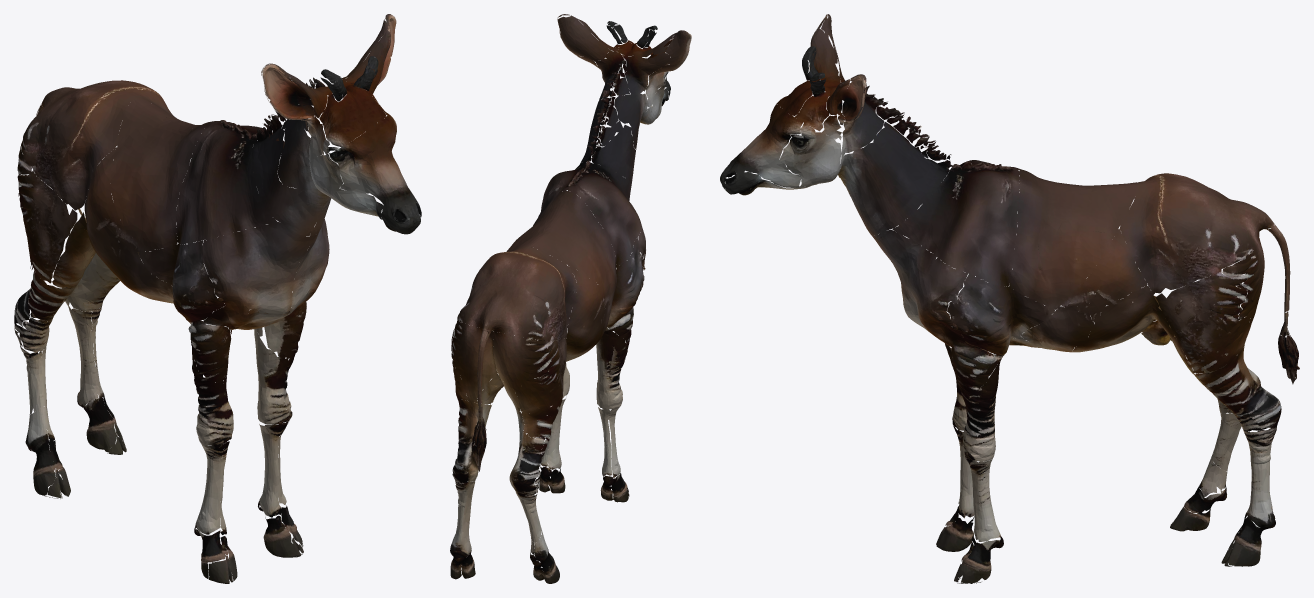
File: okapi.glb
3 views of the same model, side by side, from view 1: azimuth 30°, elevation 25°; view 2: azimuth 150°, elevation 25°; view 3: azimuth 270°, elevation 25° (orthographic). The views are drawn at different scales.
Parts seen in each view (by area): view 1: world; view 2: world; view 3: world.
Boxes of the visible parts, x1,y1,x2,y2 form: world: (14, 14, 421, 583); world: (450, 14, 691, 583); world: (720, 14, 1299, 583).
Size of the model in its own units: 0.3392 by 0.9973 by 0.9993.
1 material, 1 textured.
